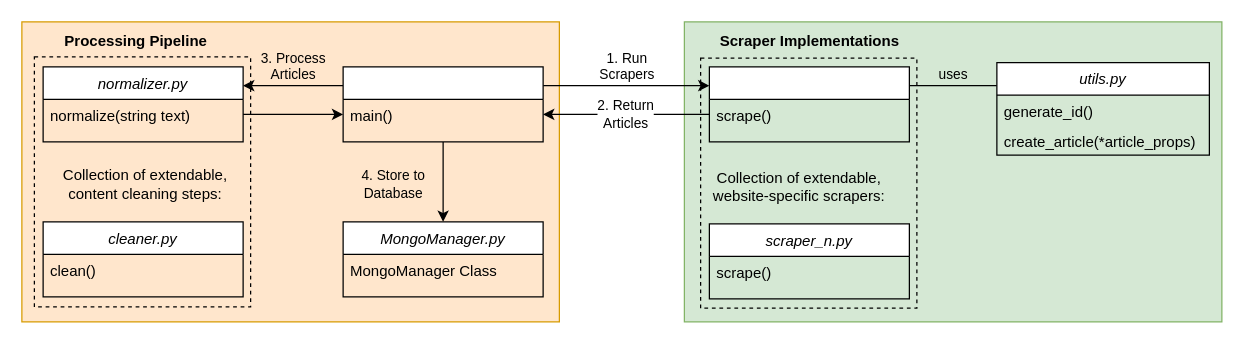
This 1244x344 diagram has some shape labels left out. The shapes that lost their labels are listed below. From the top down, each one's box as (x1, y1, x2, y2) in pixels, then its label:
(342, 66, 543, 142): main.py
(708, 66, 909, 142): scraper.py
